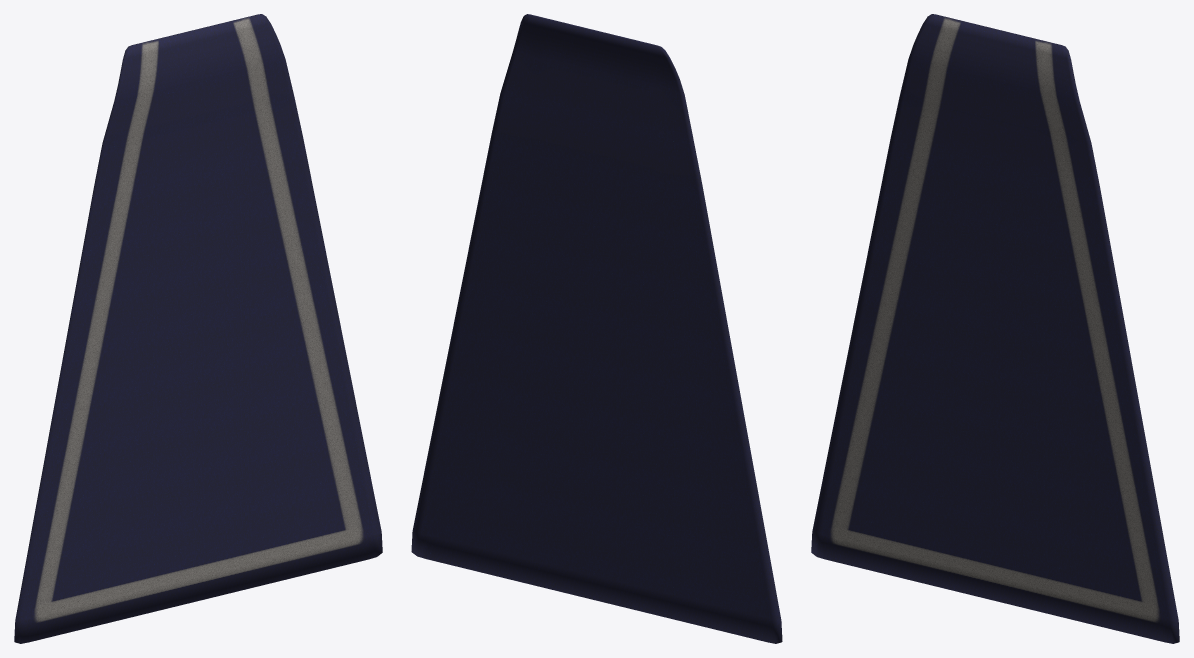
Rendered from Cloak.fbx.
3 views of the same model, side by side, from view 1: azimuth 30°, elevation 25°; view 2: azimuth 150°, elevation 25°; view 3: azimuth 330°, elevation 25° (orthographic).
Parts seen in each view (by area): view 1: Plane; view 2: Plane; view 3: Plane.
Boxes of the visible parts, <box> form: Plane: <box>14,14,382,643</box>; Plane: <box>411,14,782,643</box>; Plane: <box>811,14,1179,643</box>.
Bounding box in the file's own units: 115 × 170 × 3.
Materials: 1 (1 with a texture image).
